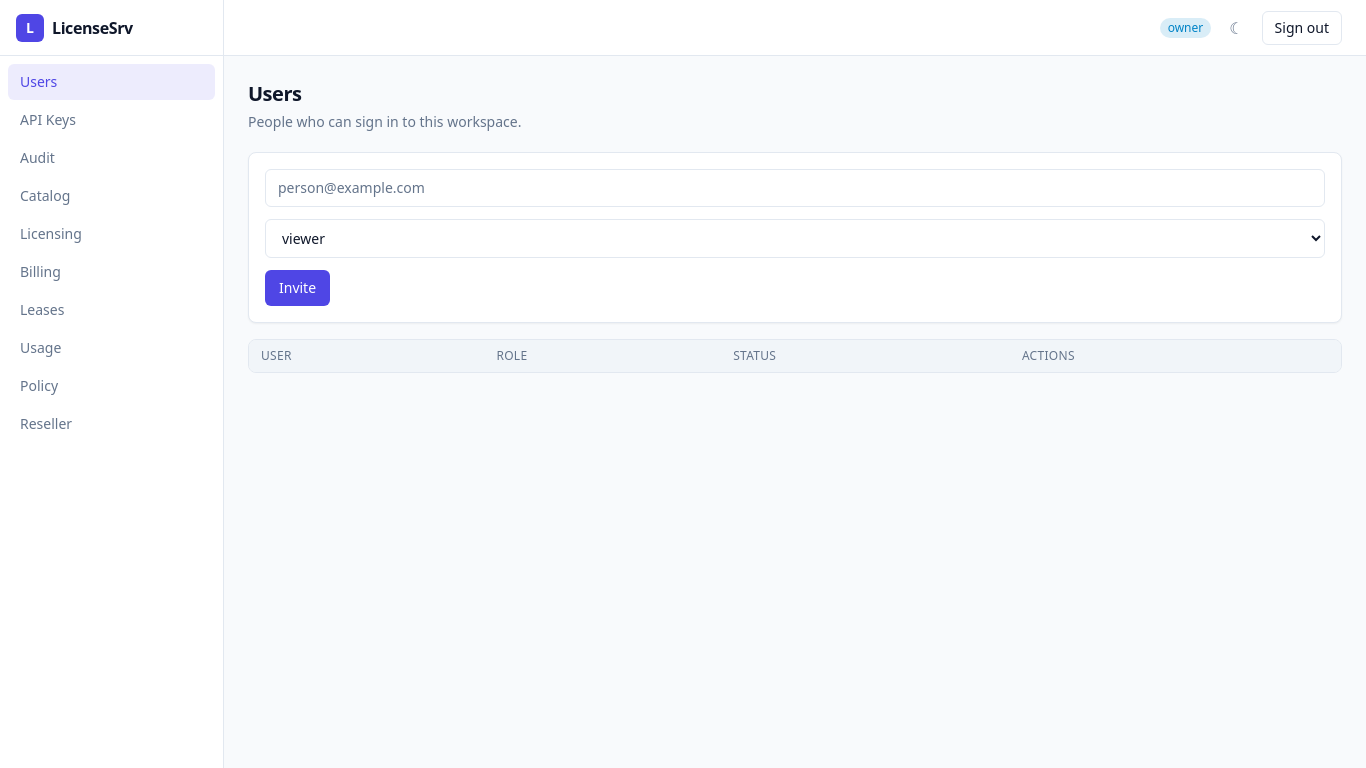
Test: Console nav (FR-015) › switches between users, api-keys, and audit views
Expected: the element "Users" is shown, 248,80 -> 1342,373
Click the link "API Keys". click: click(48, 120)
box: 20,110 -> 76,129
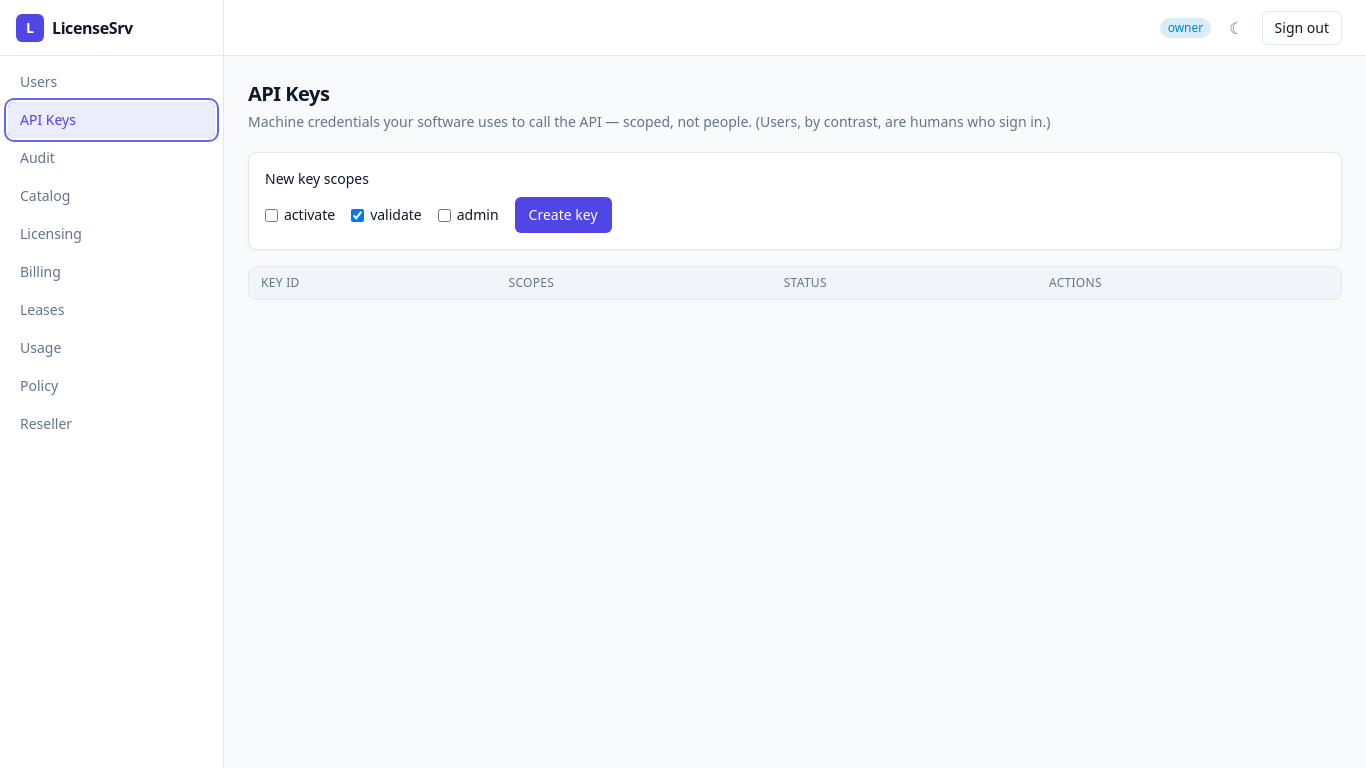
Result: the element "API Keys" is shown at 248,80 -> 1342,300
Click the link "Audit". click: click(37, 158)
box: 20,148 -> 55,167
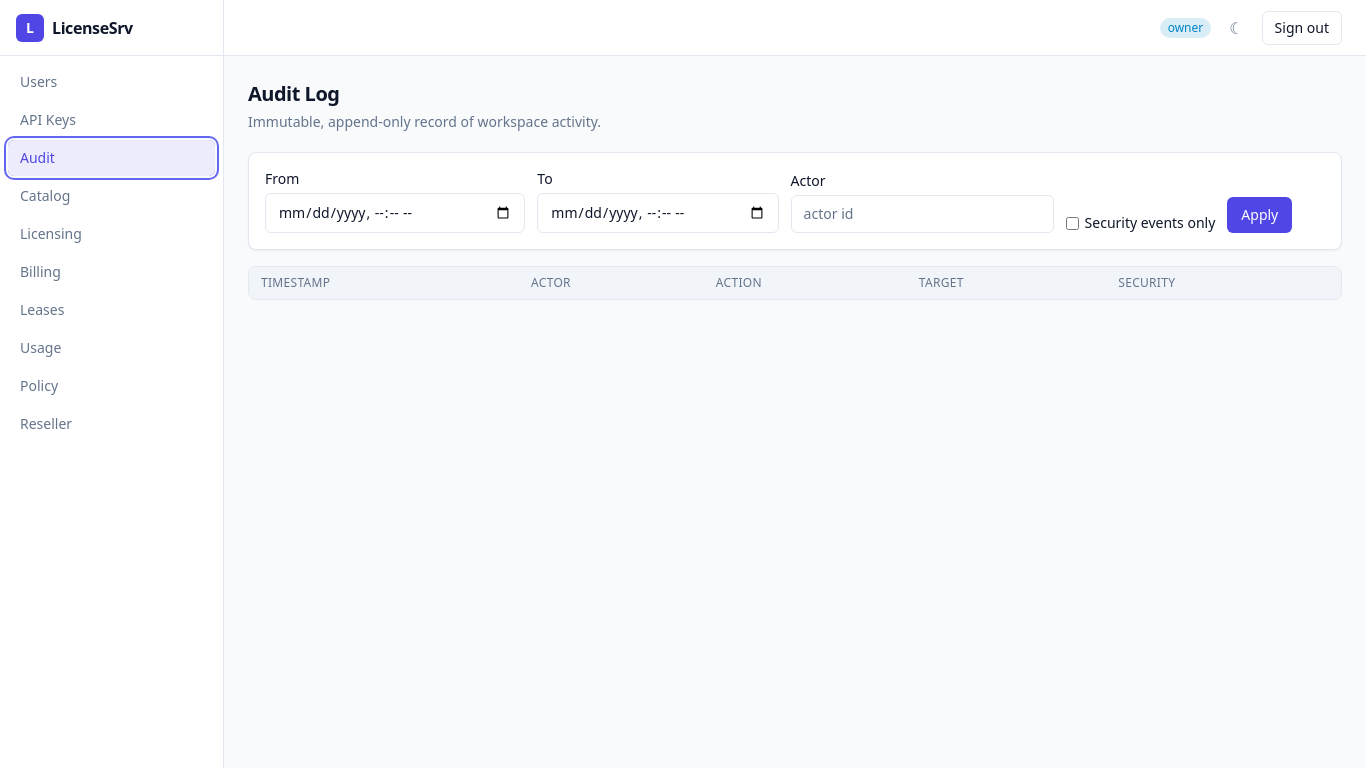
Result: the element "Audit Log" is shown at 248,80 -> 1342,300
